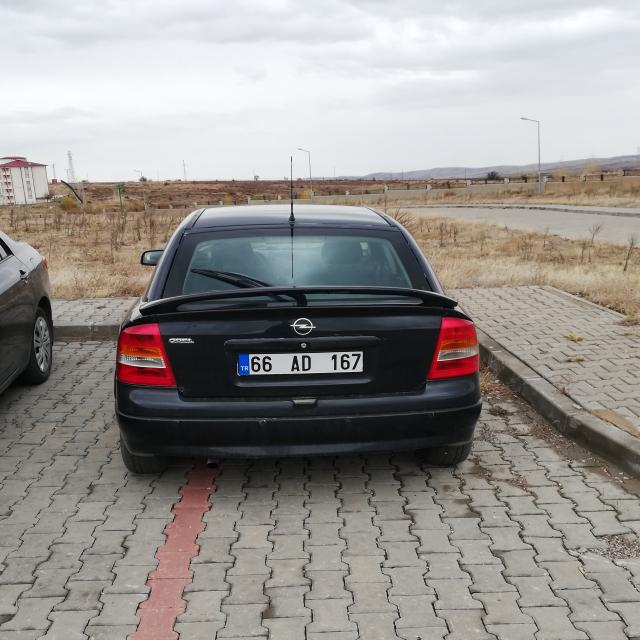license_plate: (238, 352, 364, 374)
